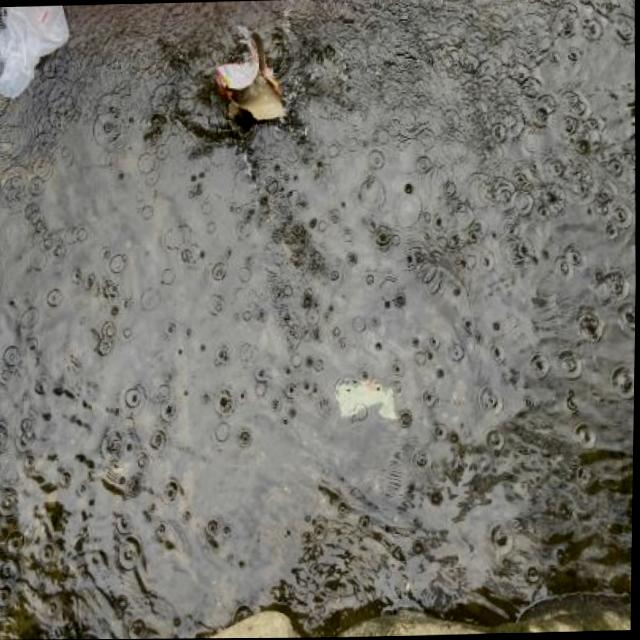Cardboard: (207, 19, 294, 127)
Plastic: (0, 4, 74, 98), (331, 370, 401, 422)
